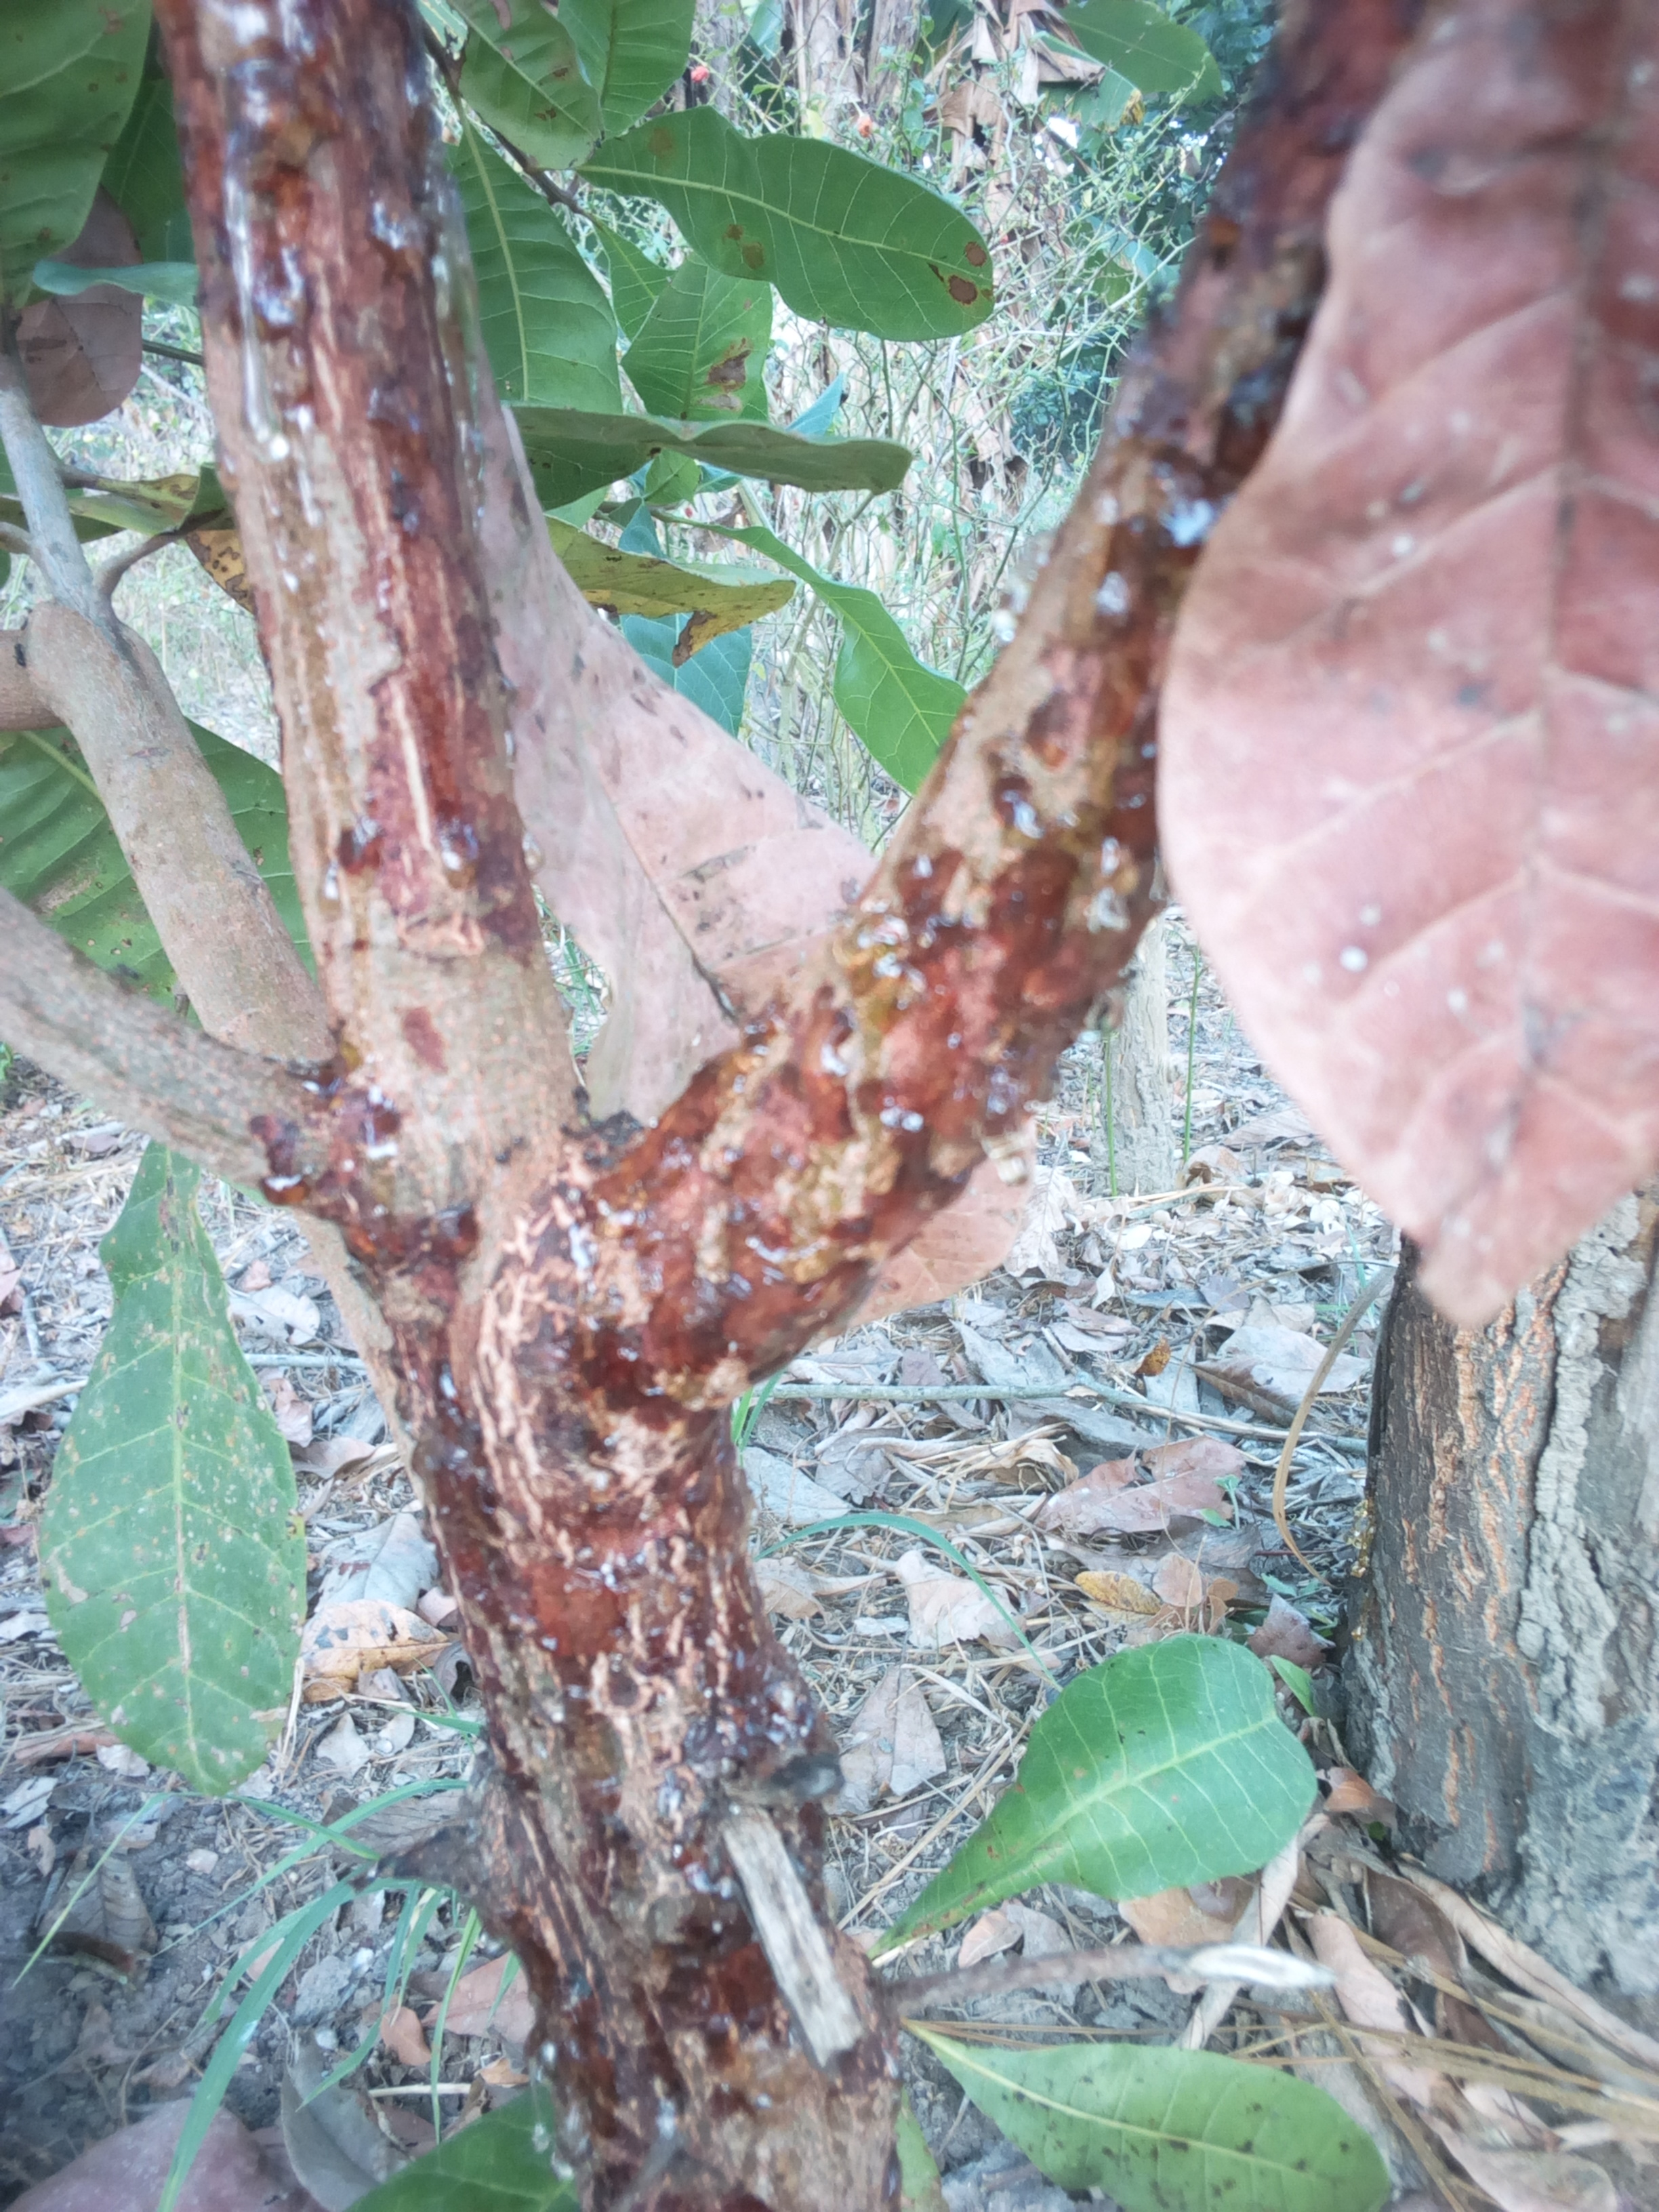Mecocorynus longiceps: (141, 28, 643, 948), (741, 712, 1105, 1271)
